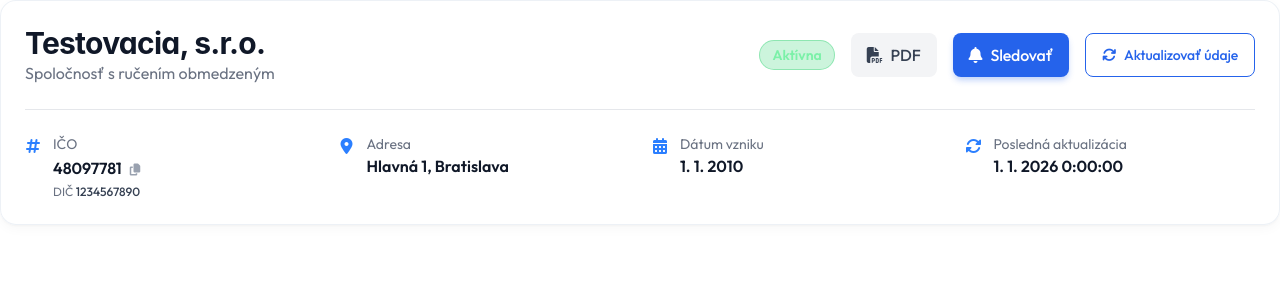
Test: CompanyHeader — obnovenie údajov › warns that a blocked source is asked anyway
The image size is (1280, 302).
Click the button "Aktualizovať údaje": x=1170, y=55 [1085, 33, 1255, 77]
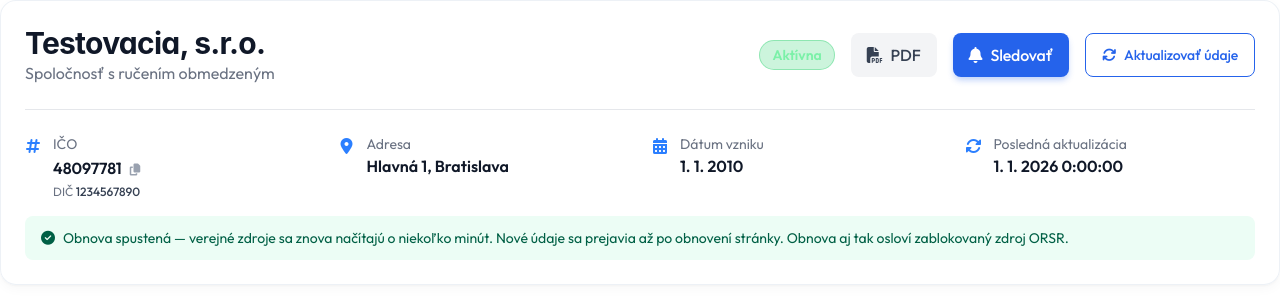
Now the message shows "osloví zablokovaný zdroj ORSR", box [63, 229, 1069, 247]
